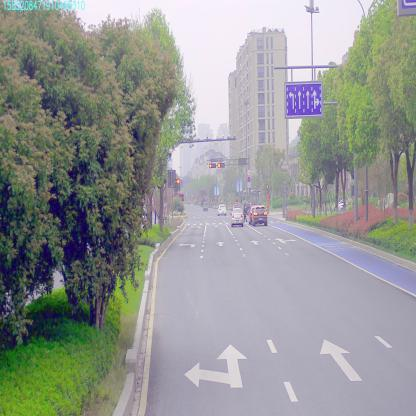traffic-light: (217, 162, 225, 168), (208, 162, 215, 166)
